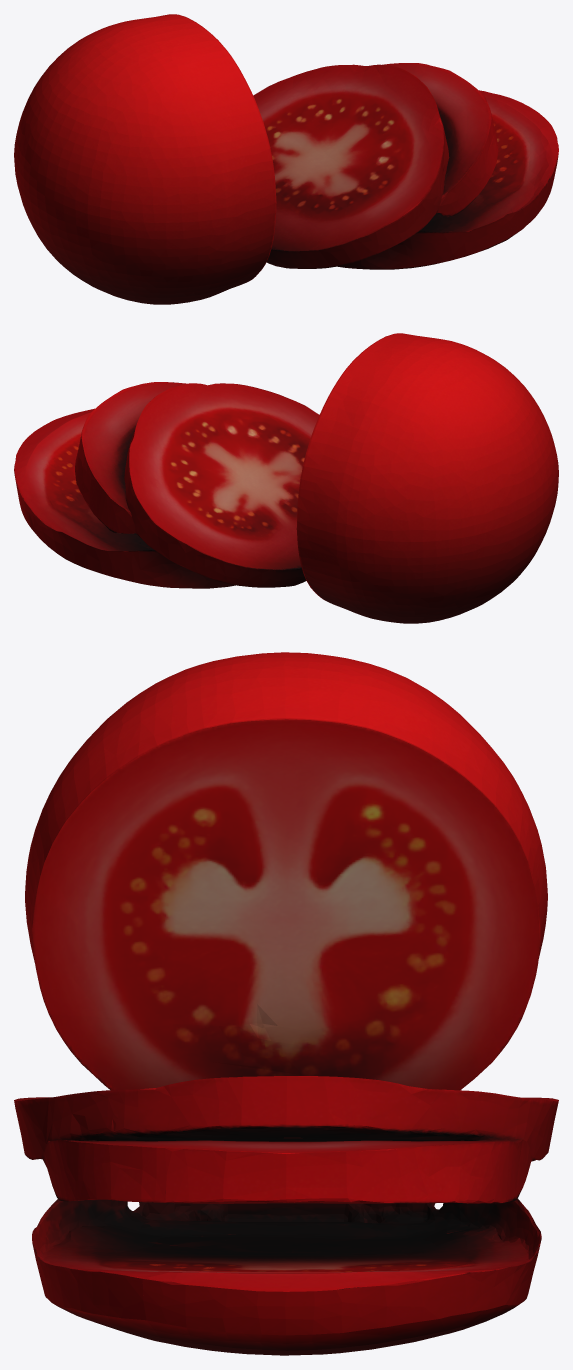
The model's file is chopped_tomato.glb.
The picture shows the model from 3 angles, top to bottom: view 1: azimuth 30°, elevation 25°; view 2: azimuth 150°, elevation 25°; view 3: azimuth 270°, elevation 25°; orthographic projection. The views are drawn at different scales.
Parts seen in each view (by area): view 1: world; view 2: world; view 3: world.
Boxes of the visible parts, x1=… form: world: x1=14, y1=14, x2=558, y2=304; world: x1=14, y1=333, x2=558, y2=623; world: x1=14, y1=652, x2=558, y2=1355.
Size of the model in its own units: 0.9912 by 0.4879 by 0.539.
1 material, 1 textured.
